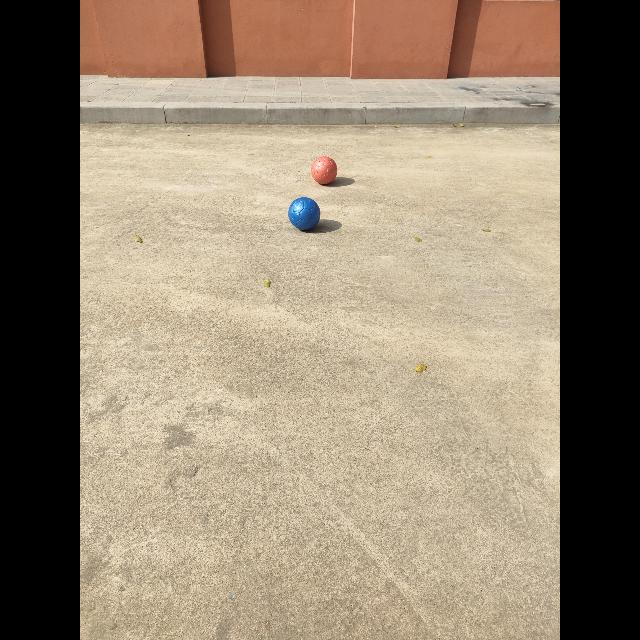B: (289, 198, 320, 230)
R: (311, 156, 338, 184)
